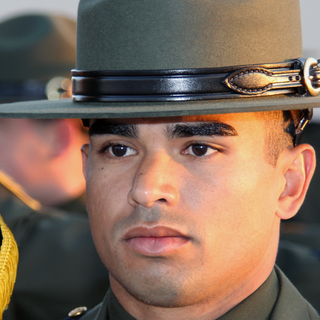eye: (90, 136, 142, 163), (174, 140, 229, 164)
